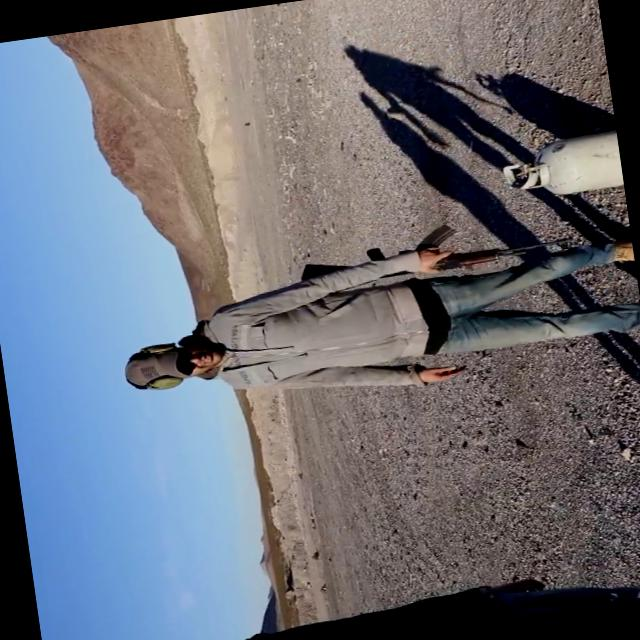long weapon: (288, 210, 588, 297)
